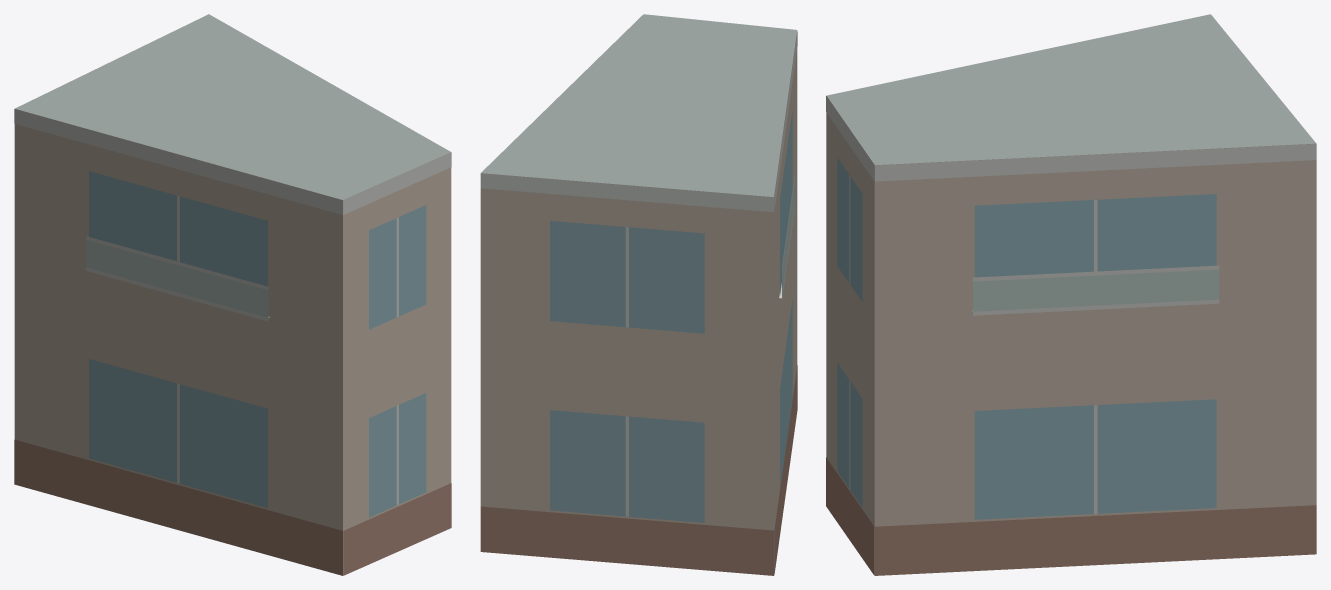
File: survey-upis-32623890.glb
3 renders of one model, left to right at view 1: azimuth 30°, elevation 25°; view 2: azimuth 150°, elevation 25°; view 3: azimuth 270°, elevation 25°, orthographic. The views are drawn at different scales.
Visible parts, largest first — view 1: survey-upis-32623890.tmp; view 2: survey-upis-32623890.tmp; view 3: survey-upis-32623890.tmp.
Boxes of the visible parts, x1,y1,x2,y2 form: survey-upis-32623890.tmp: [14, 14, 451, 575]; survey-upis-32623890.tmp: [480, 14, 797, 575]; survey-upis-32623890.tmp: [826, 14, 1316, 575].
Size of the model in its own units: 4.82 by 6.1 by 6.61.
